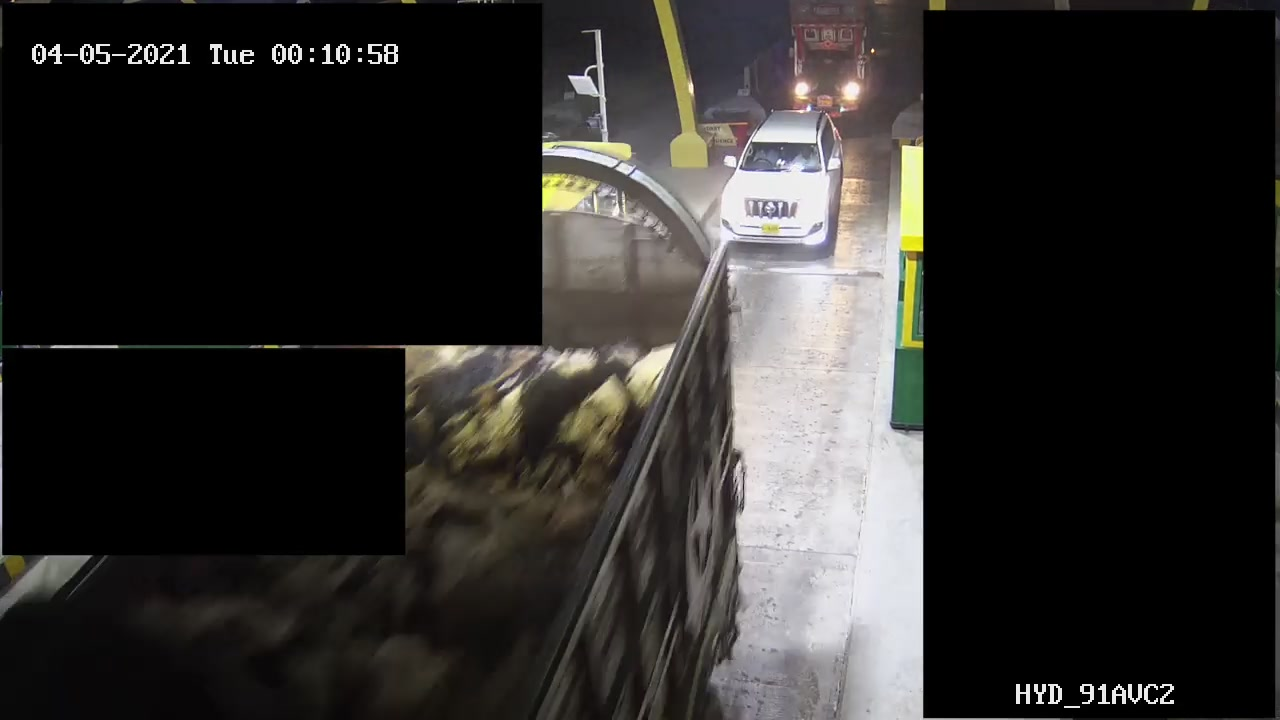F1: (712, 107, 848, 247)
